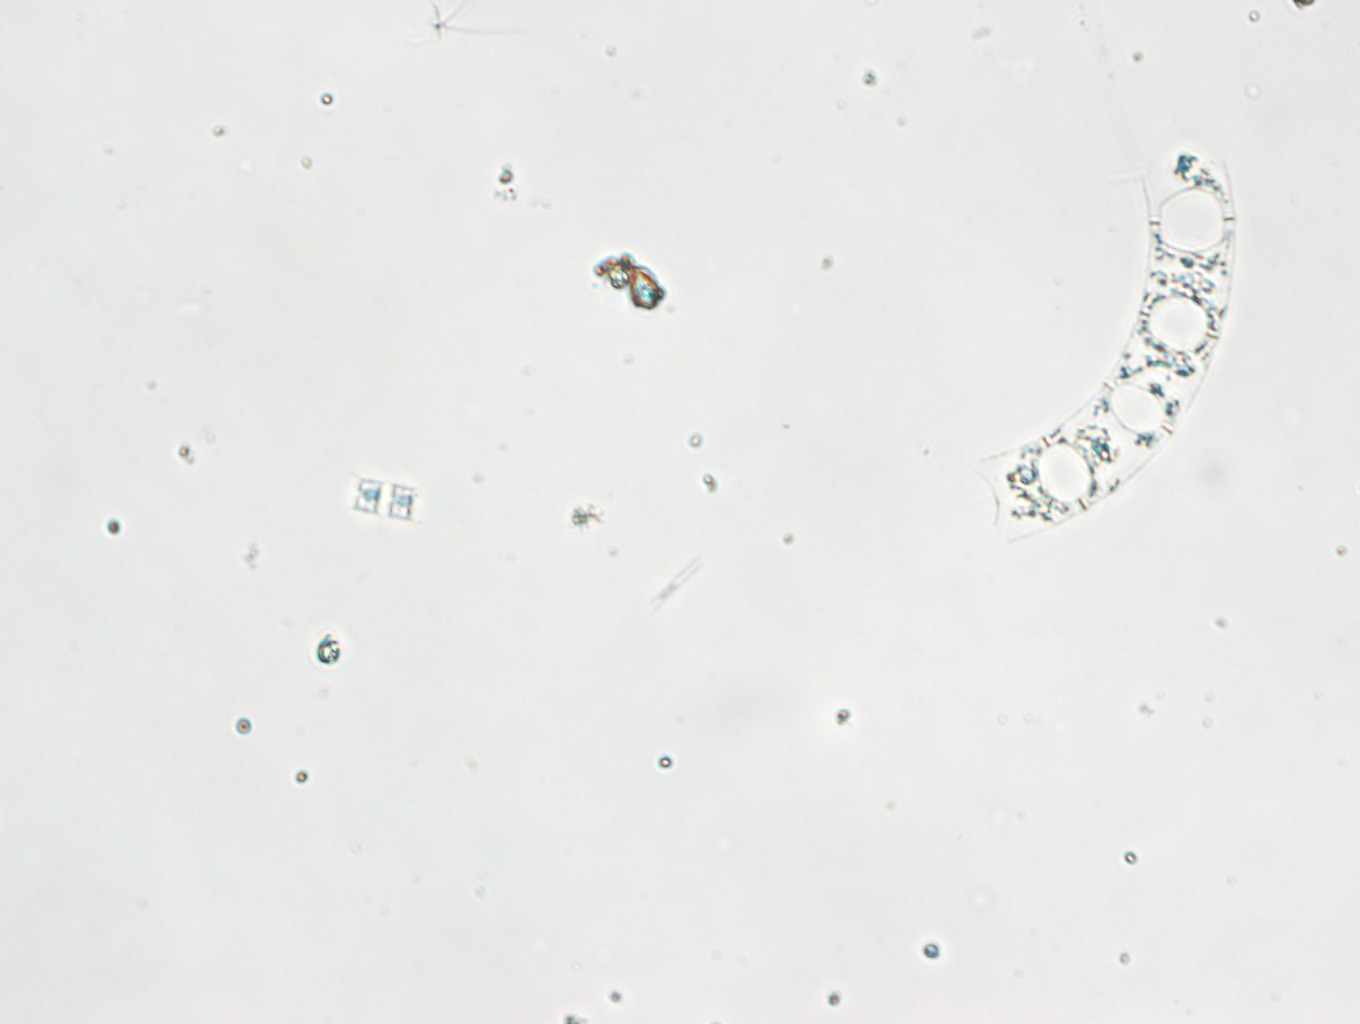eucampia: (971, 146, 1237, 540)
